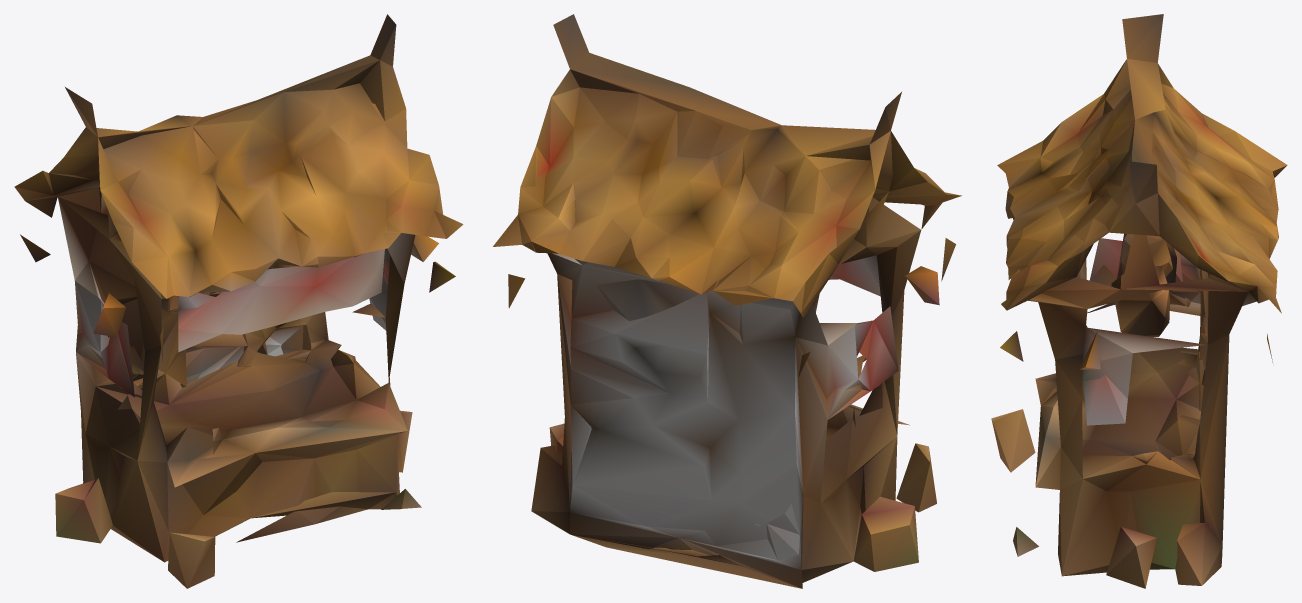
The model's file is bq_lantern_shop.vc2.glb.
The picture shows the model from 3 angles, left to right: view 1: azimuth 30°, elevation 25°; view 2: azimuth 150°, elevation 25°; view 3: azimuth 270°, elevation 25°; orthographic projection. The views are drawn at different scales.
Visible parts, largest first — view 1: bq_lantern_shop; view 2: bq_lantern_shop; view 3: bq_lantern_shop.
Part boxes in pixels (x1,y1,x2,y2): bq_lantern_shop: (14, 14, 463, 588); bq_lantern_shop: (493, 14, 961, 588); bq_lantern_shop: (991, 14, 1287, 588).
Bounding box in the file's own units: 1.5 × 1.83 × 1.14.
